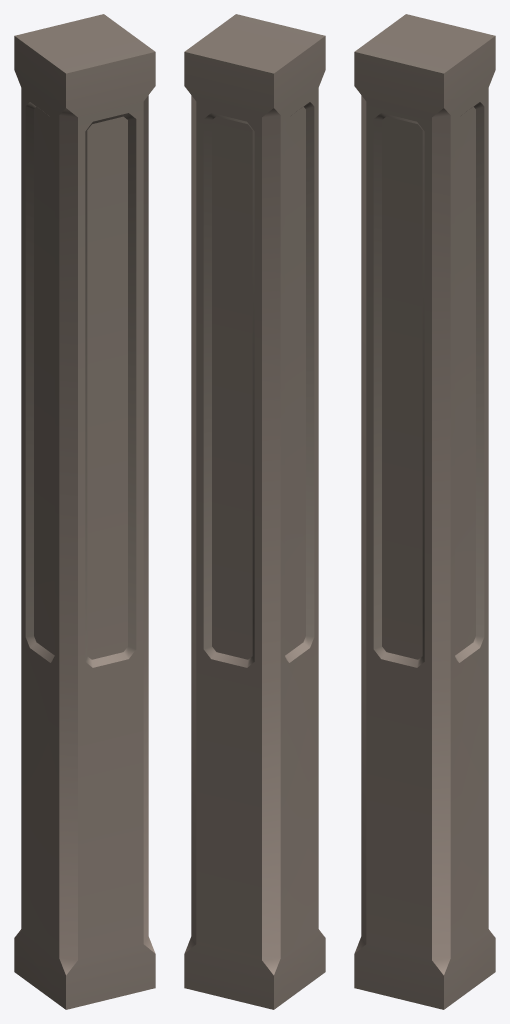
File: TSP_Concrete_Column_02A.fbx
3 views of the same model, side by side, from view 1: azimuth 30°, elevation 25°; view 2: azimuth 150°, elevation 25°; view 3: azimuth 330°, elevation 25° (orthographic).
Visible parts, largest first — view 1: TSP_Concrete_Column_02A; view 2: TSP_Concrete_Column_02A; view 3: TSP_Concrete_Column_02A.
Boxes of the visible parts, box(x1,y1,x2,y2) form: TSP_Concrete_Column_02A: box(14, 14, 155, 1009); TSP_Concrete_Column_02A: box(184, 14, 325, 1009); TSP_Concrete_Column_02A: box(354, 14, 495, 1009).
Size of the model in its own units: 0.3 by 3 by 0.3.
